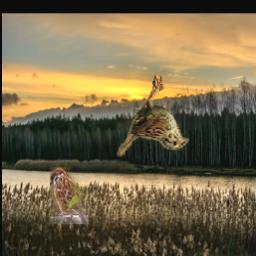Sparrow: (116, 75, 188, 157), (49, 167, 88, 224)
